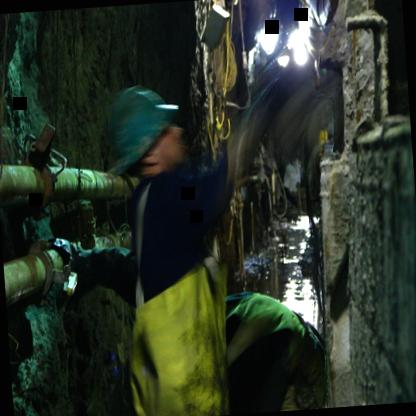helmet: (93, 72, 198, 200)
